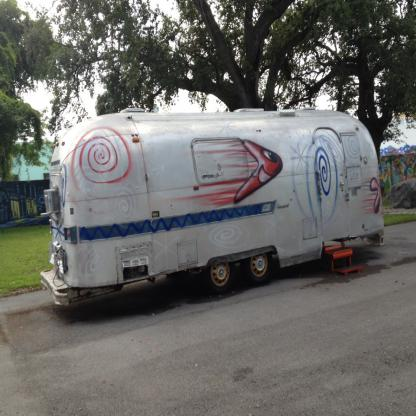Truck: (39, 107, 385, 310)
